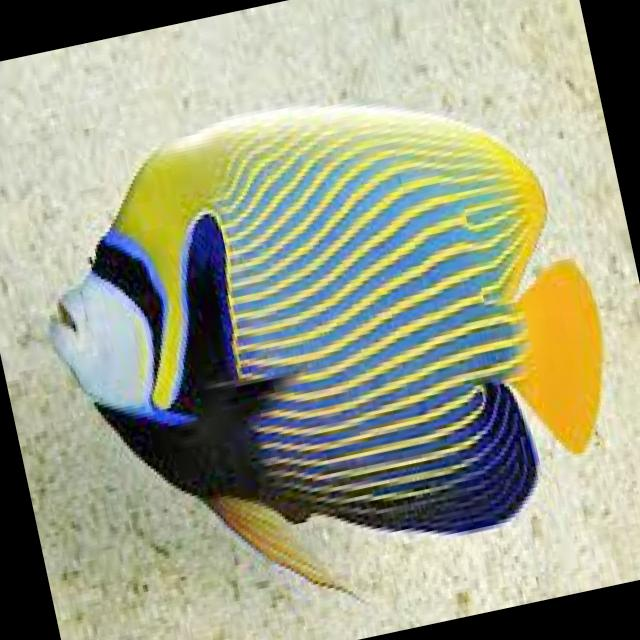AngelFish: (21, 51, 638, 634)
